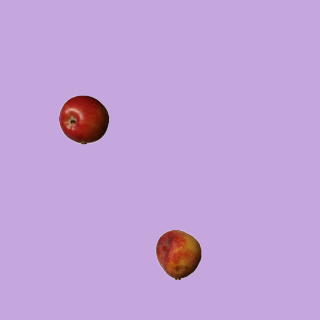Apple Braeburn: (58, 94, 108, 144)
Peach: (153, 229, 203, 279)
